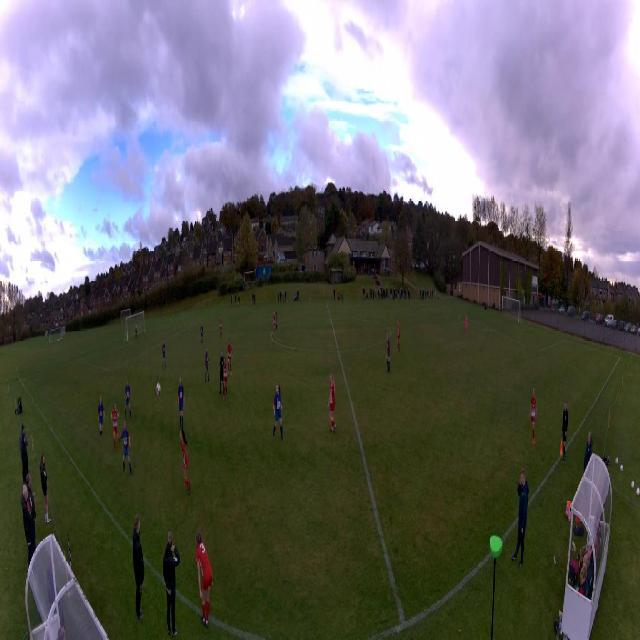ball: (156, 382, 162, 398)
player: (272, 383, 286, 442), (179, 428, 191, 496), (120, 419, 133, 475), (327, 373, 337, 433), (110, 401, 121, 452), (529, 389, 537, 444), (177, 376, 185, 428), (124, 379, 133, 425), (98, 394, 104, 441), (222, 357, 228, 403), (218, 349, 224, 395), (227, 338, 233, 375), (204, 347, 210, 382), (385, 334, 390, 372), (162, 340, 166, 369), (397, 320, 400, 352), (200, 325, 204, 345), (219, 317, 222, 339), (273, 313, 276, 335), (465, 315, 468, 337), (275, 308, 277, 330), (135, 323, 137, 339)
